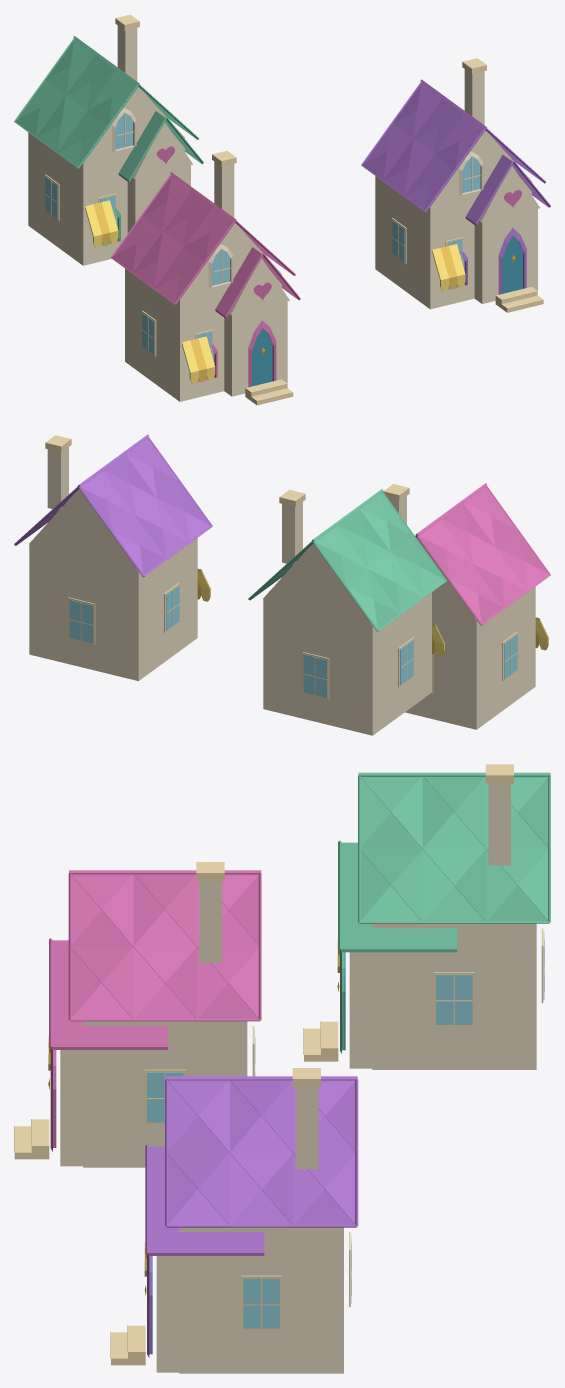
File: building.glb
The picture shows the model from 3 angles, top to bottom: view 1: azimuth 30°, elevation 25°; view 2: azimuth 150°, elevation 25°; view 3: azimuth 270°, elevation 25°; orthographic projection. The views are drawn at different scales.
Visible parts, largest first — view 1: 14_R3B_RainbowVillage_CrossGablesAndPaperWindows; view 2: 14_R3B_RainbowVillage_CrossGablesAndPaperWindows; view 3: 14_R3B_RainbowVillage_CrossGablesAndPaperWindows.
Part boxes in pixels (x1,y1,x2,y2): 14_R3B_RainbowVillage_CrossGablesAndPaperWindows: [14, 14, 550, 405]; 14_R3B_RainbowVillage_CrossGablesAndPaperWindows: [14, 434, 550, 735]; 14_R3B_RainbowVillage_CrossGablesAndPaperWindows: [14, 764, 550, 1373].
Bounding box in the file's own units: 1.23 × 0.753 × 0.9469.
